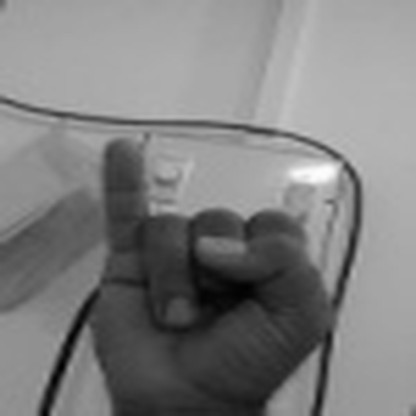i: (74, 109, 349, 411)
